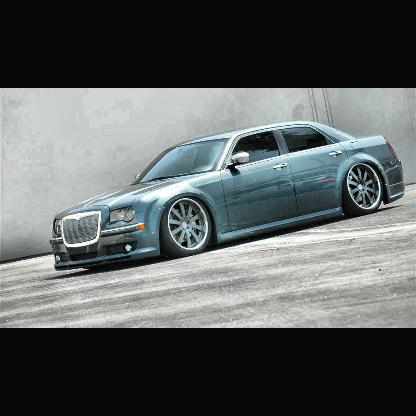Chrysler 300 SRT-8 2010: (50, 120, 407, 272)
